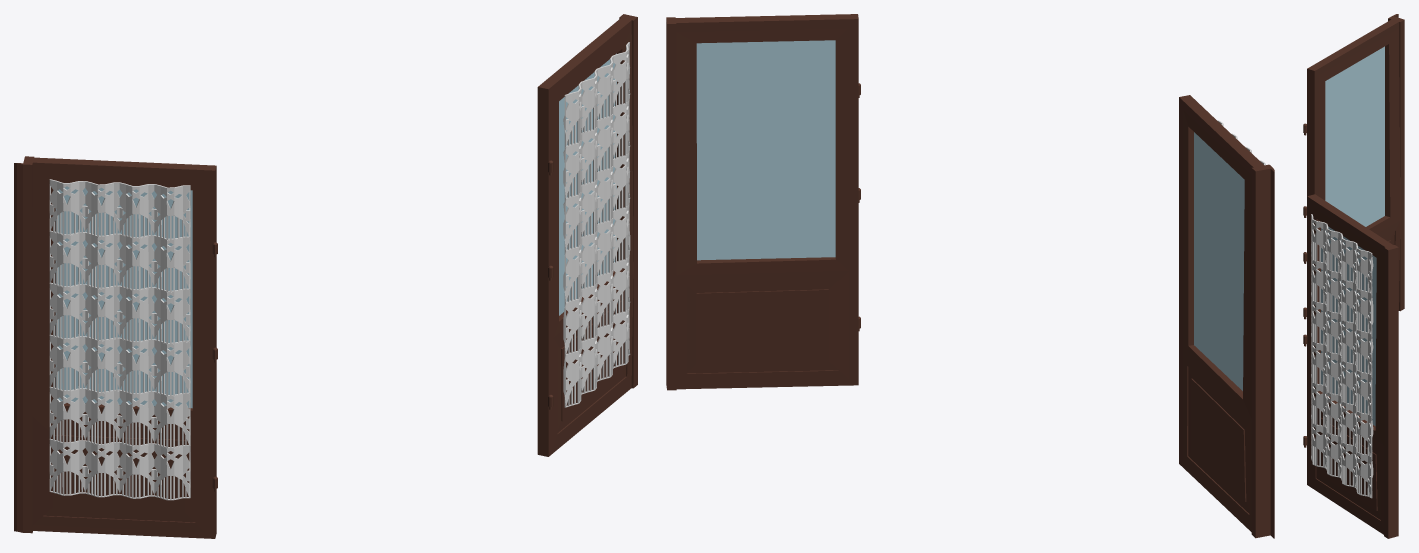
File: porte_avant.fbx
3 renders of one model, left to right at view 1: azimuth 30°, elevation 25°; view 2: azimuth 150°, elevation 25°; view 3: azimuth 270°, elevation 25°, orthographic. The views are drawn at different scales.
Visible parts, largest first — view 1: porte_int_l, rideau_porte_avant_r, porte_int_r, rideau_porte_avant_l; view 2: porte_int_r, porte_int_l; view 3: porte_int_l, porte_int_r, rideau_porte_avant_l.
Part boxes in pixels (box(x1,y1,x2,y2)): porte_int_l: box(14, 156, 217, 538); rideau_porte_avant_r: box(49, 179, 190, 500); porte_int_r: box(537, 14, 637, 456); rideau_porte_avant_l: box(563, 42, 630, 407); porte_int_r: box(666, 14, 860, 390); porte_int_l: box(1179, 95, 1274, 538); porte_int_l: box(1303, 14, 1404, 319); porte_int_r: box(1303, 194, 1398, 538); rideau_porte_avant_l: box(1311, 214, 1373, 498).
Size of the model in its own units: 964 by 551 by 175.
